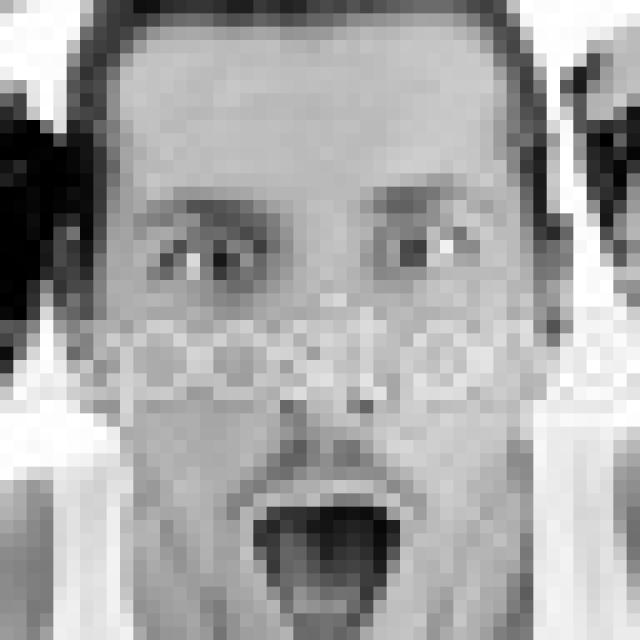surprise: (130, 171, 497, 640)
